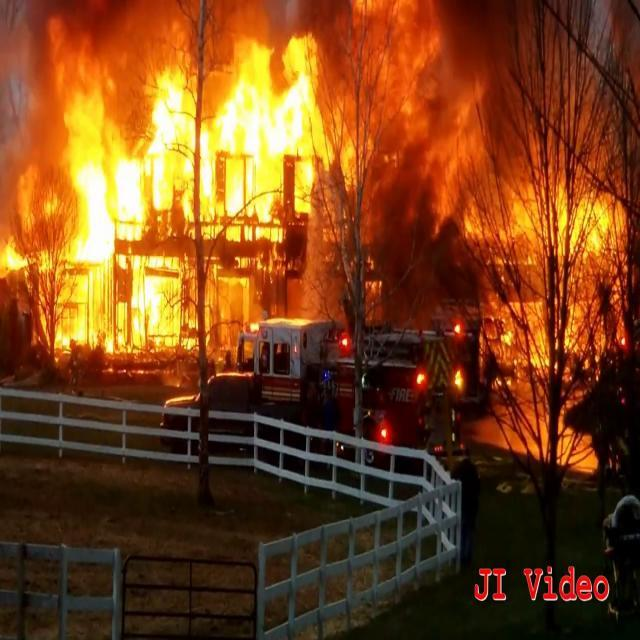Fire: (364, 1, 640, 475), (2, 12, 336, 374)
